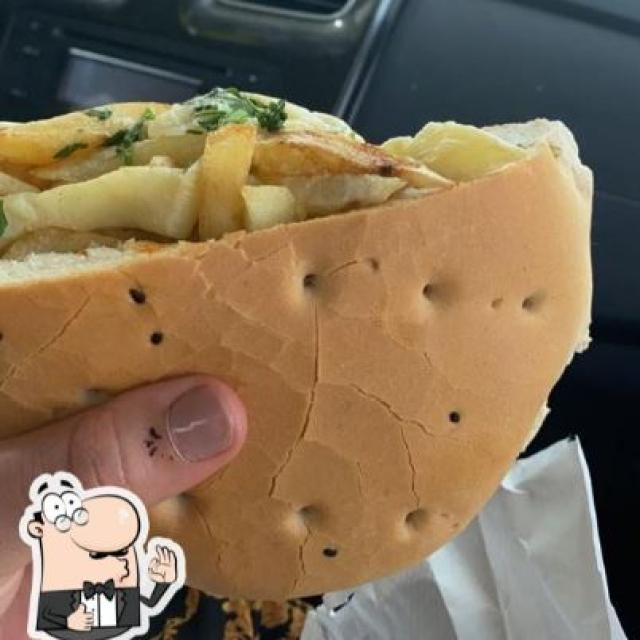Sandwitch tounsi: (0, 97, 580, 549)
